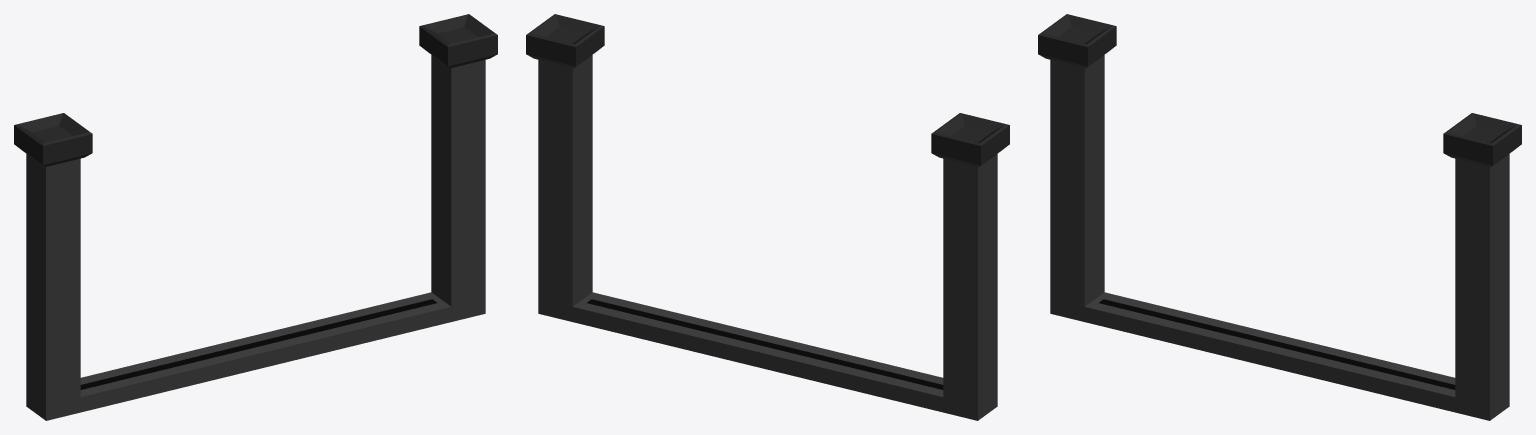
File: SM_Portao.fbx
3 views of the same model, side by side, from view 1: azimuth 30°, elevation 25°; view 2: azimuth 150°, elevation 25°; view 3: azimuth 330°, elevation 25° (orthographic).
Parts seen in each view (by area): view 1: SM_Portao; view 2: SM_Portao; view 3: SM_Portao.
Boxes of the visible parts, x1,y1,x2,y2 form: SM_Portao: (14,14,497,420); SM_Portao: (526,14,1009,420); SM_Portao: (1038,14,1521,420).
Bounding box in the file's own units: 621 × 367 × 68.08.
